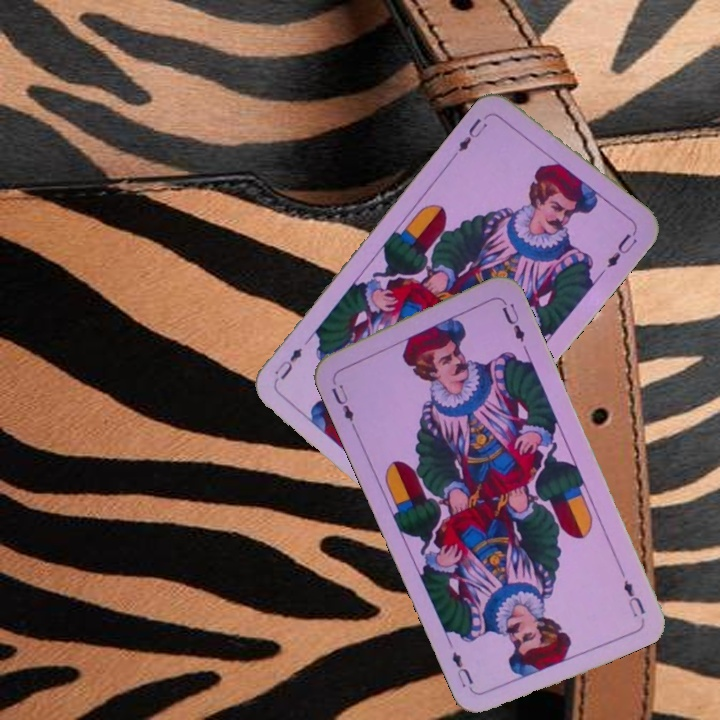EU: (451, 109, 494, 159), (615, 564, 648, 620), (327, 373, 358, 430)
